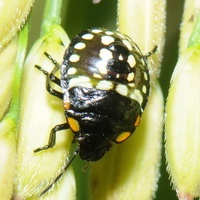insect: (50, 28, 156, 160)
